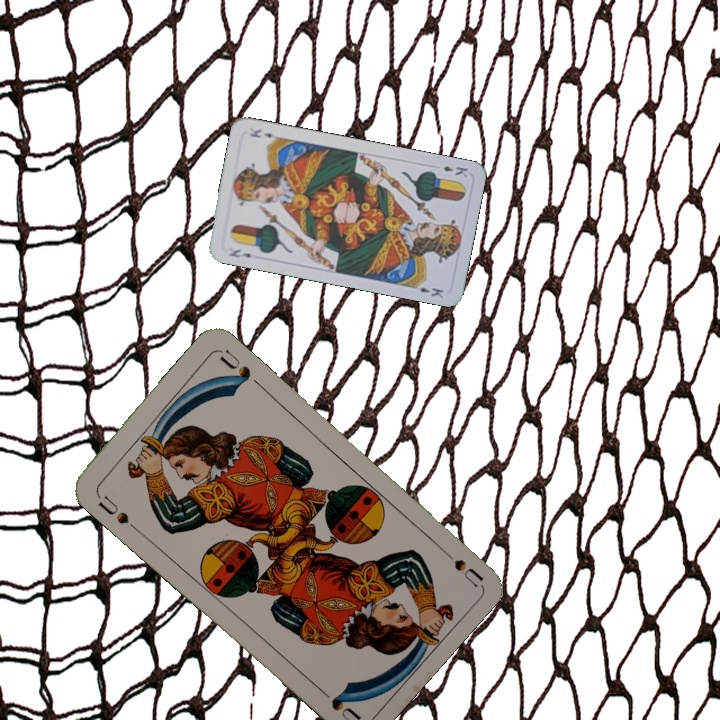EK: (430, 161, 470, 179), (225, 245, 254, 260)
SU: (434, 541, 485, 588), (93, 489, 140, 534)
